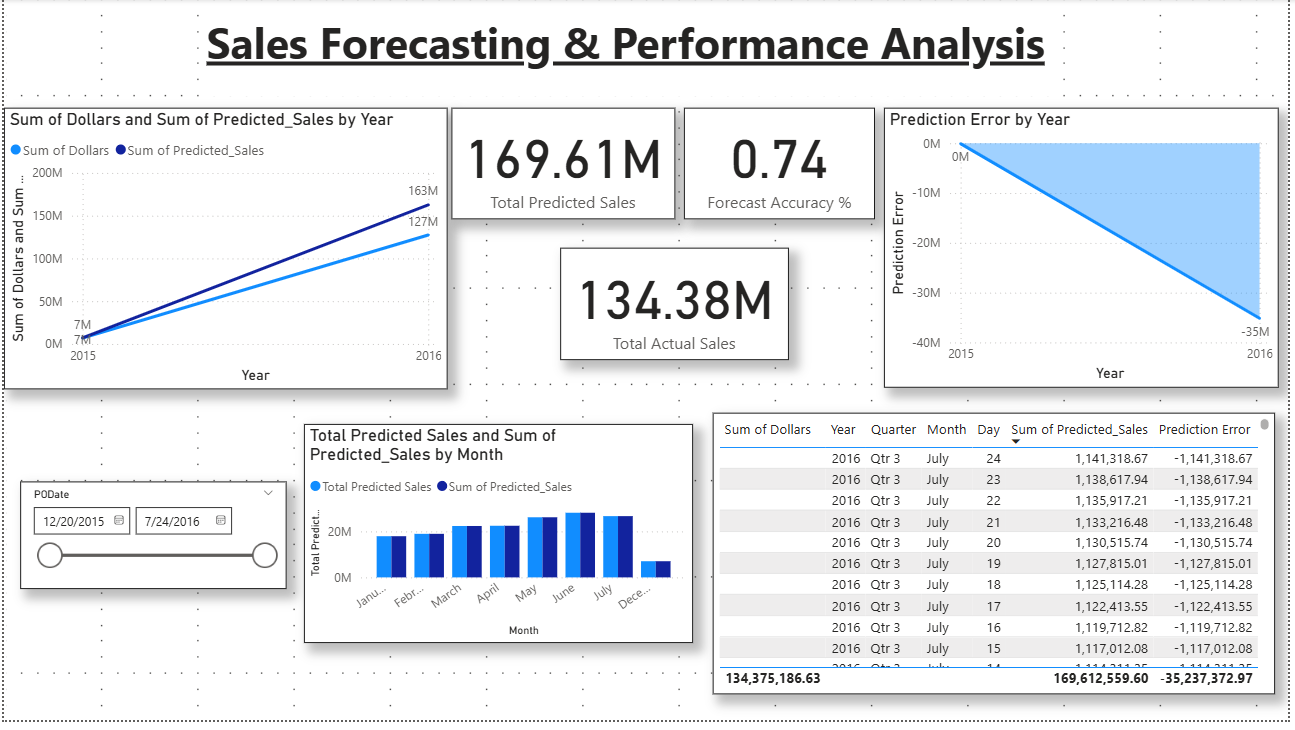

Layout of this report page (visuals, bound fields, positions):
{"tool":"powerbi","page":{"name":"Page 1","canvas":[1280,720],"ordinal":0},"visuals":[{"type":"lineChart","fields":{"Category":["purchase_sales_forecast_powerbi.PODate.Variation.Date Hierarchy.Year","purchase_sales_forecast_powerbi.PODate.Variation.Date Hierarchy.Quarter","purchase_sales_forecast_powerbi.PODate.Variation.Date Hierarchy.Month","purchase_sales_forecast_powerbi.PODate.Variation.Date Hierarchy.Day"],"Y":["Sum(purchase_sales_forecast_powerbi.Dollars)","Sum(purchase_sales_forecast_powerbi.Predicted_Sales)"]},"box":[0,108.5,442.6,280.5],"z":0},{"type":"card","fields":{"Values":["purchase_sales_forecast_powerbi.Total Actual Sales"]},"box":[554.8,248.1,228.2,112.2],"z":1000},{"type":"card","fields":{"Values":["purchase_sales_forecast_powerbi.Total Predicted Sales"]},"box":[446.3,108.5,223.2,111],"z":2000},{"type":"card","fields":{"Values":["purchase_sales_forecast_powerbi.Forecast Accuracy %","select"]},"box":[678.2,108.5,190.8,111],"z":3000},{"type":"areaChart","fields":{"Category":["purchase_sales_forecast_powerbi.PODate.Variation.Date Hierarchy.Year","purchase_sales_forecast_powerbi.PODate.Variation.Date Hierarchy.Quarter","purchase_sales_forecast_powerbi.PODate.Variation.Date Hierarchy.Month","purchase_sales_forecast_powerbi.PODate.Variation.Date Hierarchy.Day"],"Y":["purchase_sales_forecast_powerbi.Prediction Error"]},"box":[877.7,108.5,394,279.3],"z":4000},{"type":"tableEx","fields":{"Values":["Sum(purchase_sales_forecast_powerbi.Dollars)","purchase_sales_forecast_powerbi.PODate.Variation.Date Hierarchy.Year","purchase_sales_forecast_powerbi.PODate.Variation.Date Hierarchy.Quarter","purchase_sales_forecast_powerbi.PODate.Variation.Date Hierarchy.Month","purchase_sales_forecast_powerbi.PODate.Variation.Date Hierarchy.Day","Sum(purchase_sales_forecast_powerbi.Predicted_Sales)","purchase_sales_forecast_powerbi.Prediction Error"]},"box":[706.9,412.7,561,280.5],"z":5000},{"type":"slicer","fields":{"Values":["purchase_sales_forecast_powerbi.PODate"]},"box":[16.2,481.2,265.6,107.2],"z":6000},{"type":"clusteredColumnChart","fields":{"Category":["purchase_sales_forecast_powerbi.PODate.Variation.Date Hierarchy.Month"],"Y":["purchase_sales_forecast_powerbi.Total Predicted Sales","Sum(purchase_sales_forecast_powerbi.Predicted_Sales)"]},"box":[299.2,423.9,387.7,218.2],"z":6001},{"type":"textbox","box":[197,8.7,859,88.5],"z":6003}]}

Visuals, with their boxes in screenshot pixels (x1, y1, x2, y2), scaled from the page's 1280x720 canvas onto the 1295x730 screenshot:
lineChart - purchase_sales_forecast_powerbi.PODate.Variation.Date Hierarchy.Year x purchase_sales_forecast_powerbi.PODate.Variation.Date Hierarchy.Quarter: crop(0, 110, 448, 394)
card - purchase_sales_forecast_powerbi.Total Actual Sales: crop(561, 252, 792, 365)
card - purchase_sales_forecast_powerbi.Total Predicted Sales: crop(452, 110, 677, 223)
card - purchase_sales_forecast_powerbi.Forecast Accuracy % x select: crop(686, 110, 879, 223)
areaChart - purchase_sales_forecast_powerbi.PODate.Variation.Date Hierarchy.Year x purchase_sales_forecast_powerbi.PODate.Variation.Date Hierarchy.Quarter: crop(888, 110, 1287, 393)
tableEx - Sum(purchase_sales_forecast_powerbi.Dollars) x purchase_sales_forecast_powerbi.PODate.Variation.Date Hierarchy.Year: crop(715, 418, 1283, 703)
slicer - purchase_sales_forecast_powerbi.PODate: crop(16, 488, 285, 597)
clusteredColumnChart - purchase_sales_forecast_powerbi.PODate.Variation.Date Hierarchy.Month x purchase_sales_forecast_powerbi.Total Predicted Sales: crop(303, 430, 695, 651)
textbox: crop(199, 9, 1068, 99)
